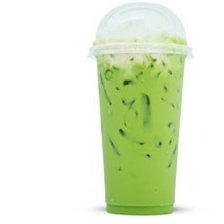glass: (83, 2, 195, 219)
